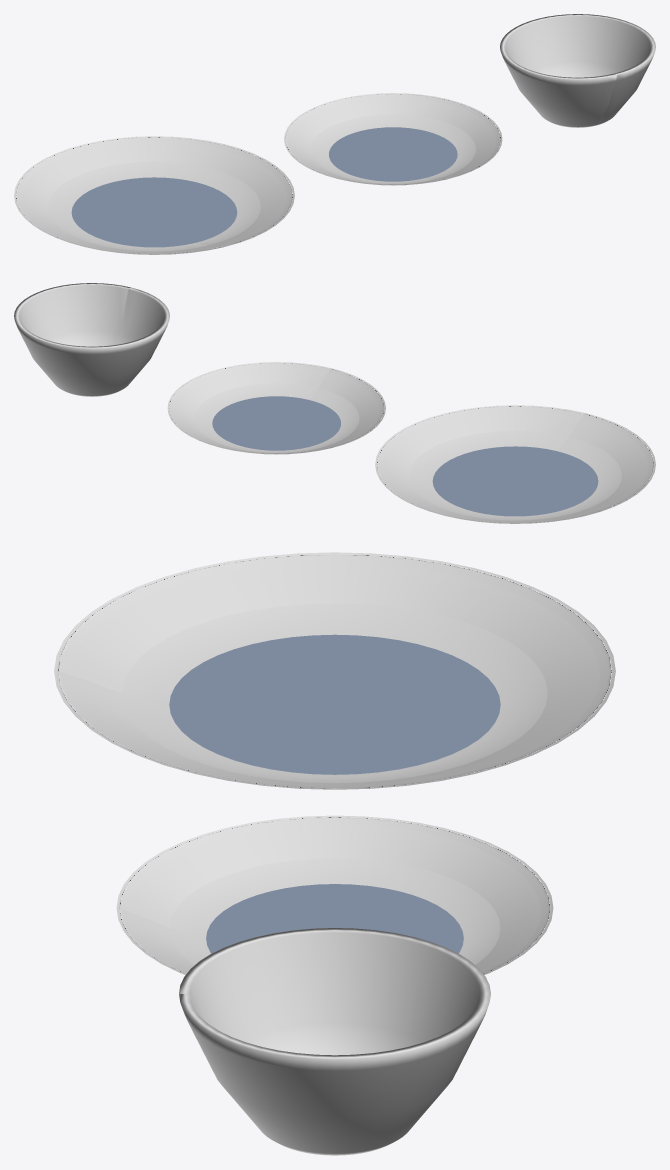
3 renders of one model, top to bottom at view 1: azimuth 30°, elevation 25°; view 2: azimuth 150°, elevation 25°; view 3: azimuth 270°, elevation 25°, orthographic. The views are drawn at different scales.
Bounding box in the file's own units: 0.68 × 0.07 × 0.27.
